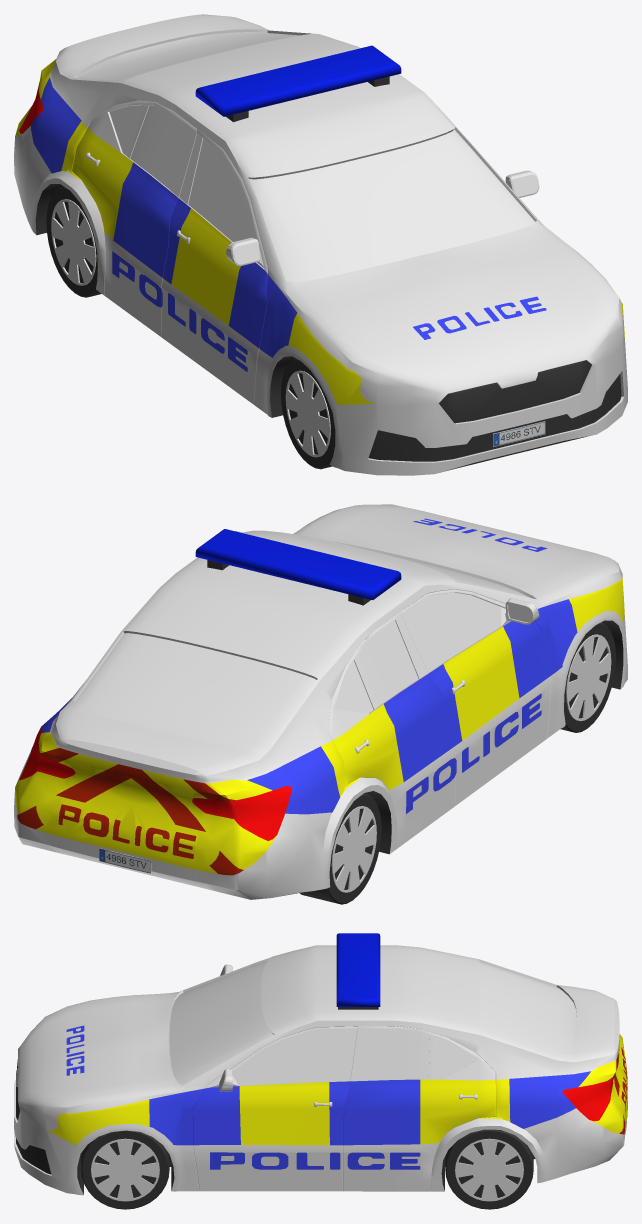
Rendered from policia.fbx.
3 views of the same model, one above another, from view 1: azimuth 30°, elevation 25°; view 2: azimuth 150°, elevation 25°; view 3: azimuth 270°, elevation 25° (orthographic). The views are drawn at different scales.
Visible parts, largest first — view 1: coche policia.001, LUZES.002, rueda 1, rueda 2, retrovisor, matricula delante.007; view 2: coche policia.001, LUZES.002, rueda 2, rueda 1, retrovisor, matricula delante.008; view 3: coche policia.001, rueda 2, rueda 1, LUZES.002, retrovisor.
Boxes of the visible parts, bbox=[...] form: coche policia.001: bbox=[14, 14, 627, 475]; LUZES.002: bbox=[195, 45, 401, 122]; rueda 1: bbox=[281, 358, 335, 469]; rueda 2: bbox=[46, 186, 101, 297]; retrovisor: bbox=[226, 170, 539, 268]; matricula delante.007: bbox=[493, 421, 545, 446]; coche policia.001: bbox=[14, 504, 627, 899]; LUZES.002: bbox=[195, 529, 401, 605]; rueda 2: bbox=[299, 793, 381, 904]; rueda 1: bbox=[560, 622, 615, 732]; retrovisor: bbox=[234, 531, 539, 625]; matricula delante.008: bbox=[99, 848, 151, 873]; coche policia.001: bbox=[14, 945, 627, 1195]; rueda 2: bbox=[445, 1129, 533, 1209]; rueda 1: bbox=[81, 1130, 169, 1209]; LUZES.002: bbox=[336, 933, 380, 1009]; retrovisor: bbox=[211, 964, 238, 1091].
Size of the model in its own units: 226 by 173 by 504.
